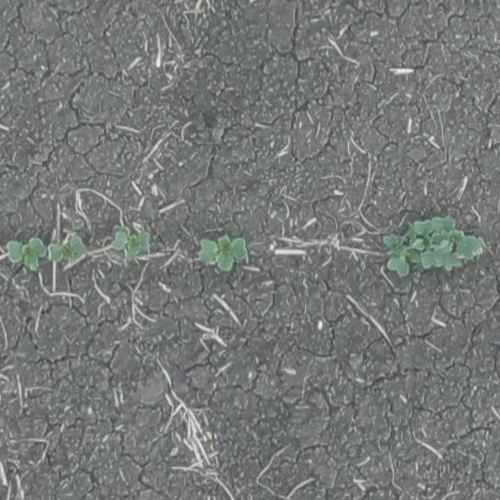plant: (385, 213, 486, 277), (200, 237, 247, 273), (6, 237, 45, 273), (108, 228, 147, 258), (51, 234, 86, 266)
